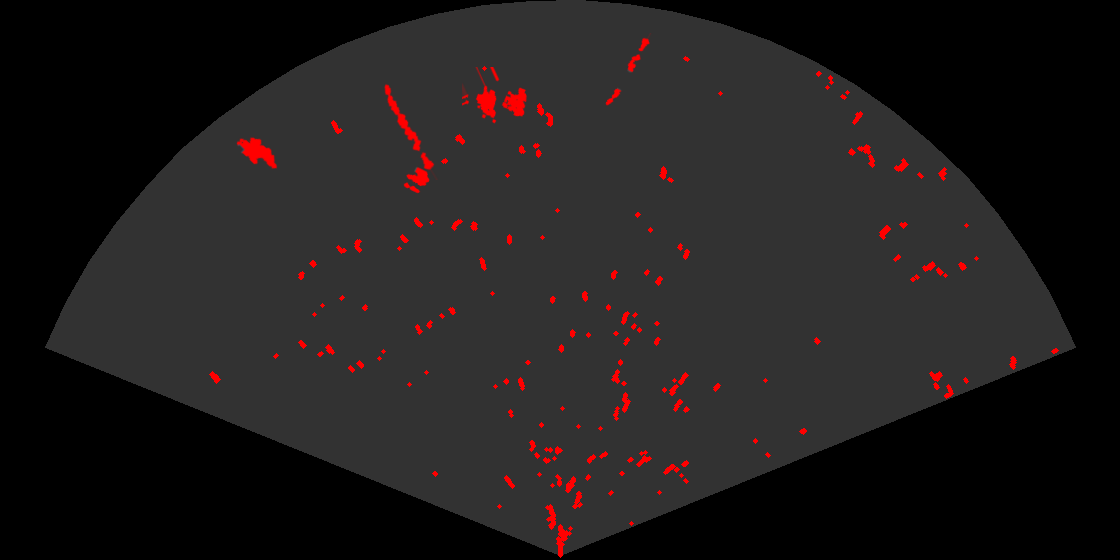AUV: (235, 135, 279, 171)
ball: (402, 166, 431, 195)
cage: (462, 67, 529, 125)
chain: (383, 82, 439, 180), (604, 33, 653, 107)
